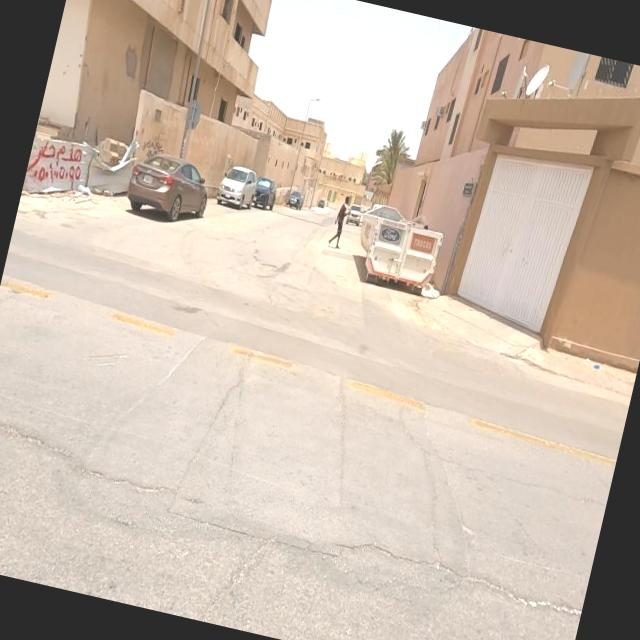debris: (11, 90, 130, 252), (94, 81, 208, 205), (393, 248, 464, 340), (557, 318, 622, 401)
